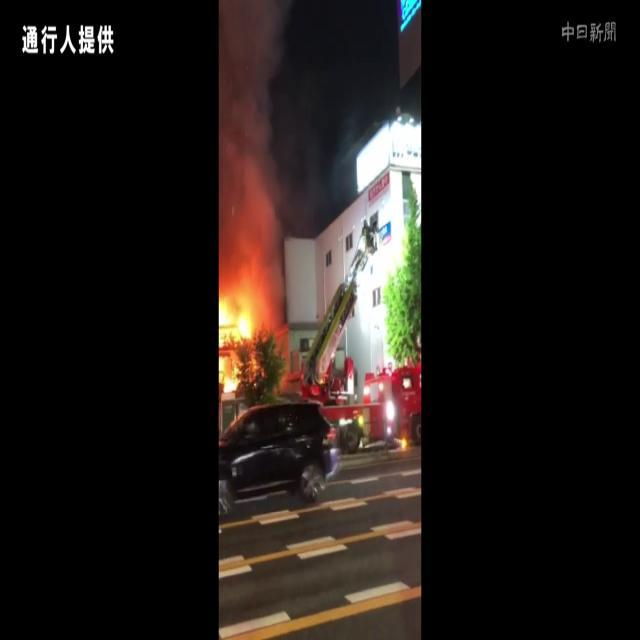Fire: (218, 268, 272, 404)
Smoke: (219, 0, 296, 271)
